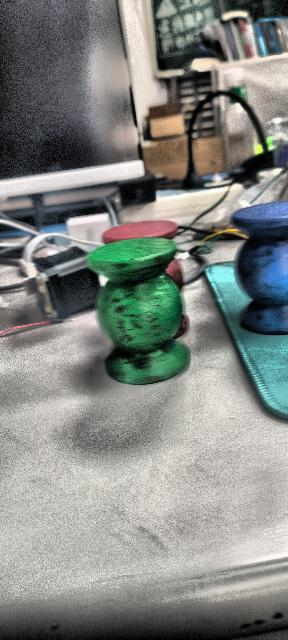blue: (231, 200, 287, 334)
green: (85, 238, 187, 387)
red: (100, 217, 188, 296)
